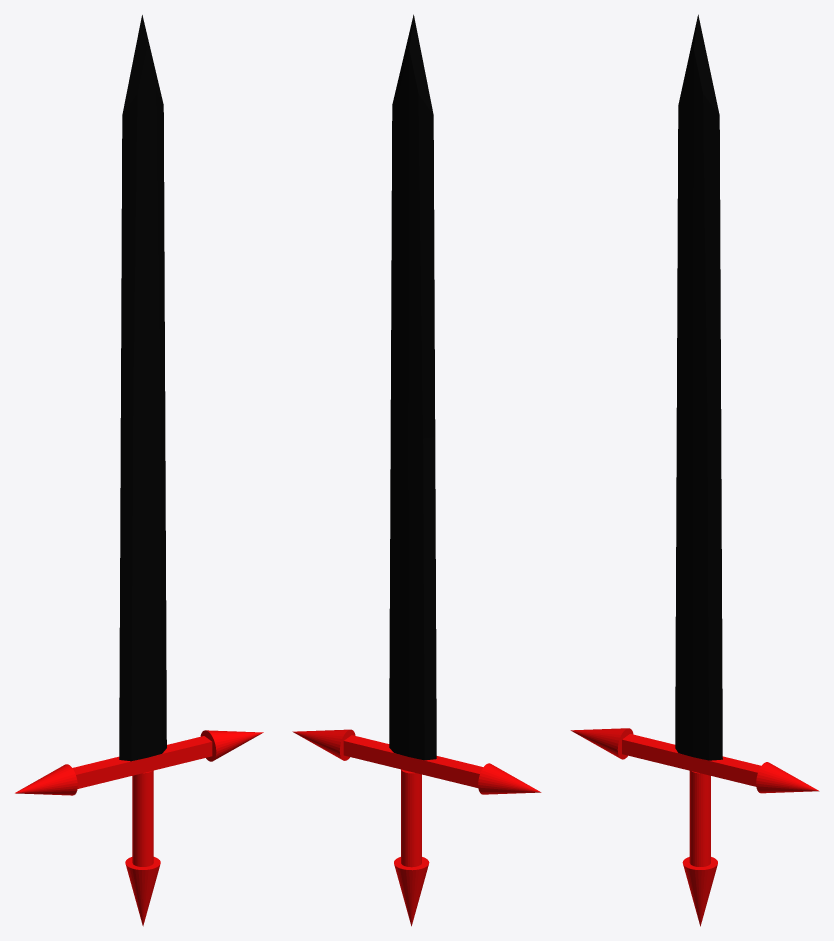
File: sword finish.obj
The picture shows the model from 3 angles, left to right: view 1: azimuth 30°, elevation 25°; view 2: azimuth 150°, elevation 25°; view 3: azimuth 330°, elevation 25°; orthographic projection.
Parts seen in each view (by area): view 1: Cylinder; view 2: Cylinder; view 3: Cylinder.
Part boxes in pixels (x1,y1,x2,y2): Cylinder: (15,15,263,926); Cylinder: (292,14,541,926); Cylinder: (570,14,819,926).
Size of the model in its own units: 0.8123 by 2.84 by 0.1.
